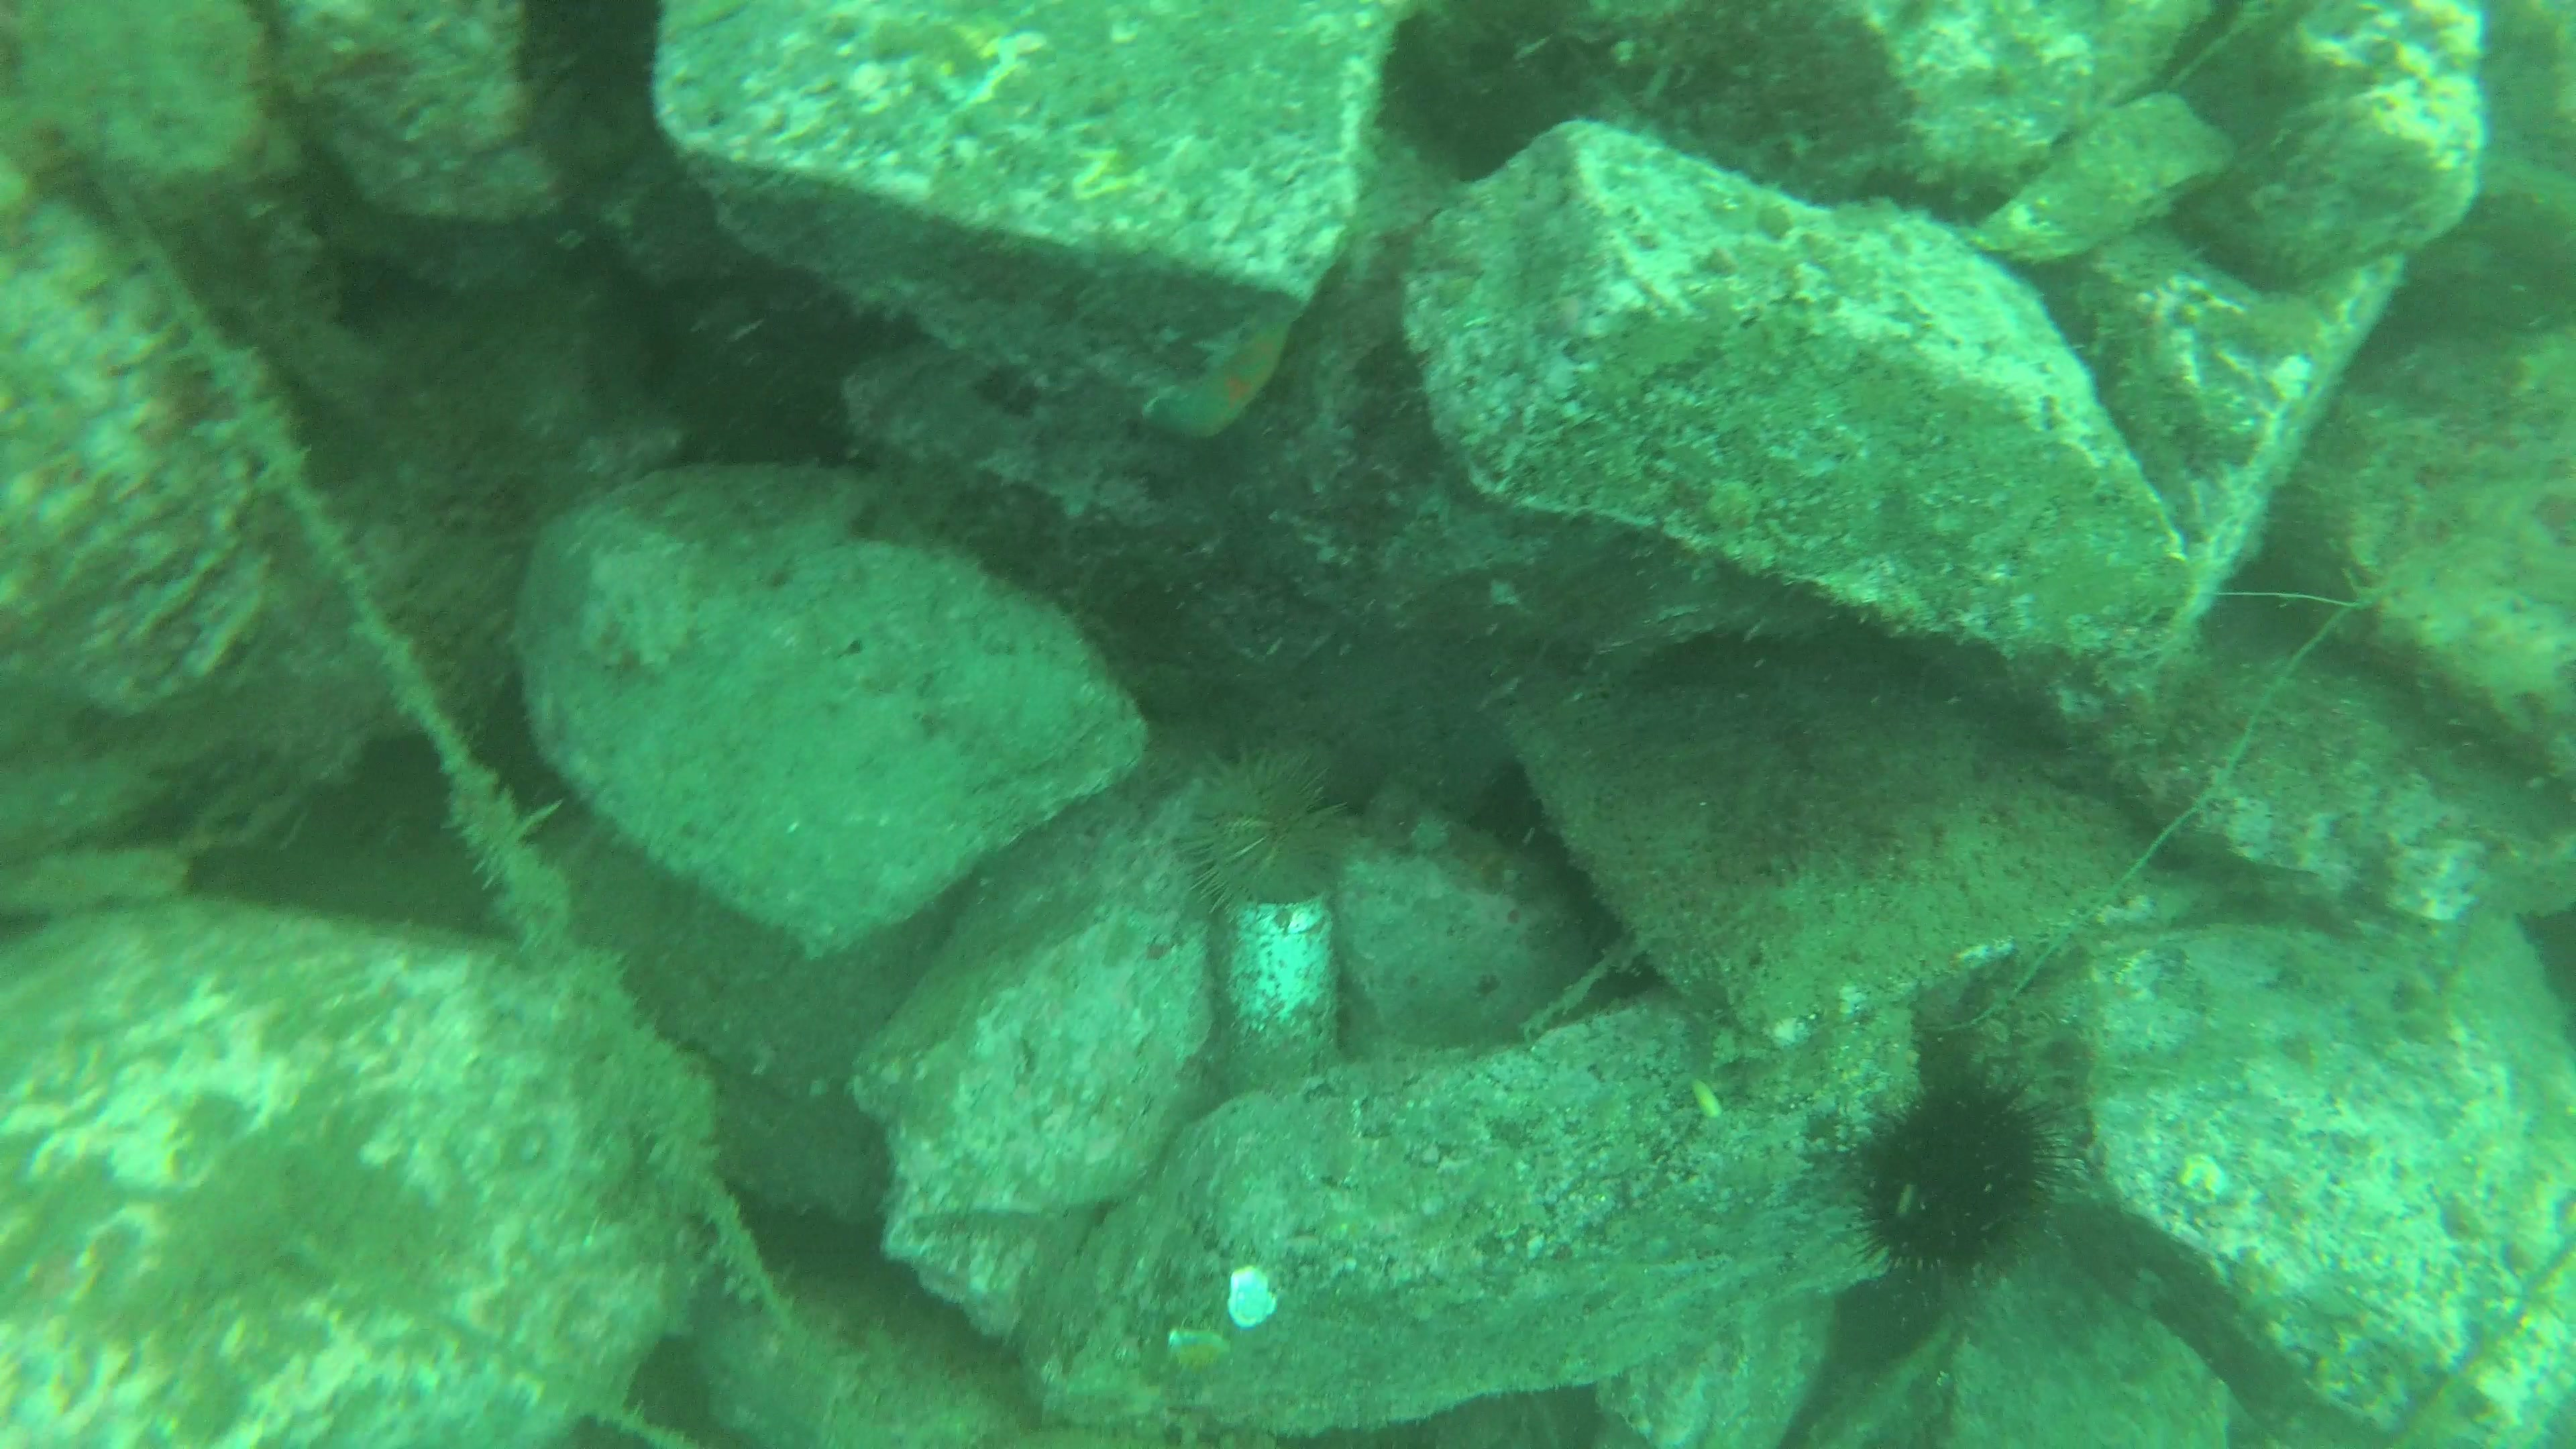echinus: (1826, 1069, 2091, 1284), (1157, 731, 1369, 909)
starfish: (1157, 315, 1295, 439)
